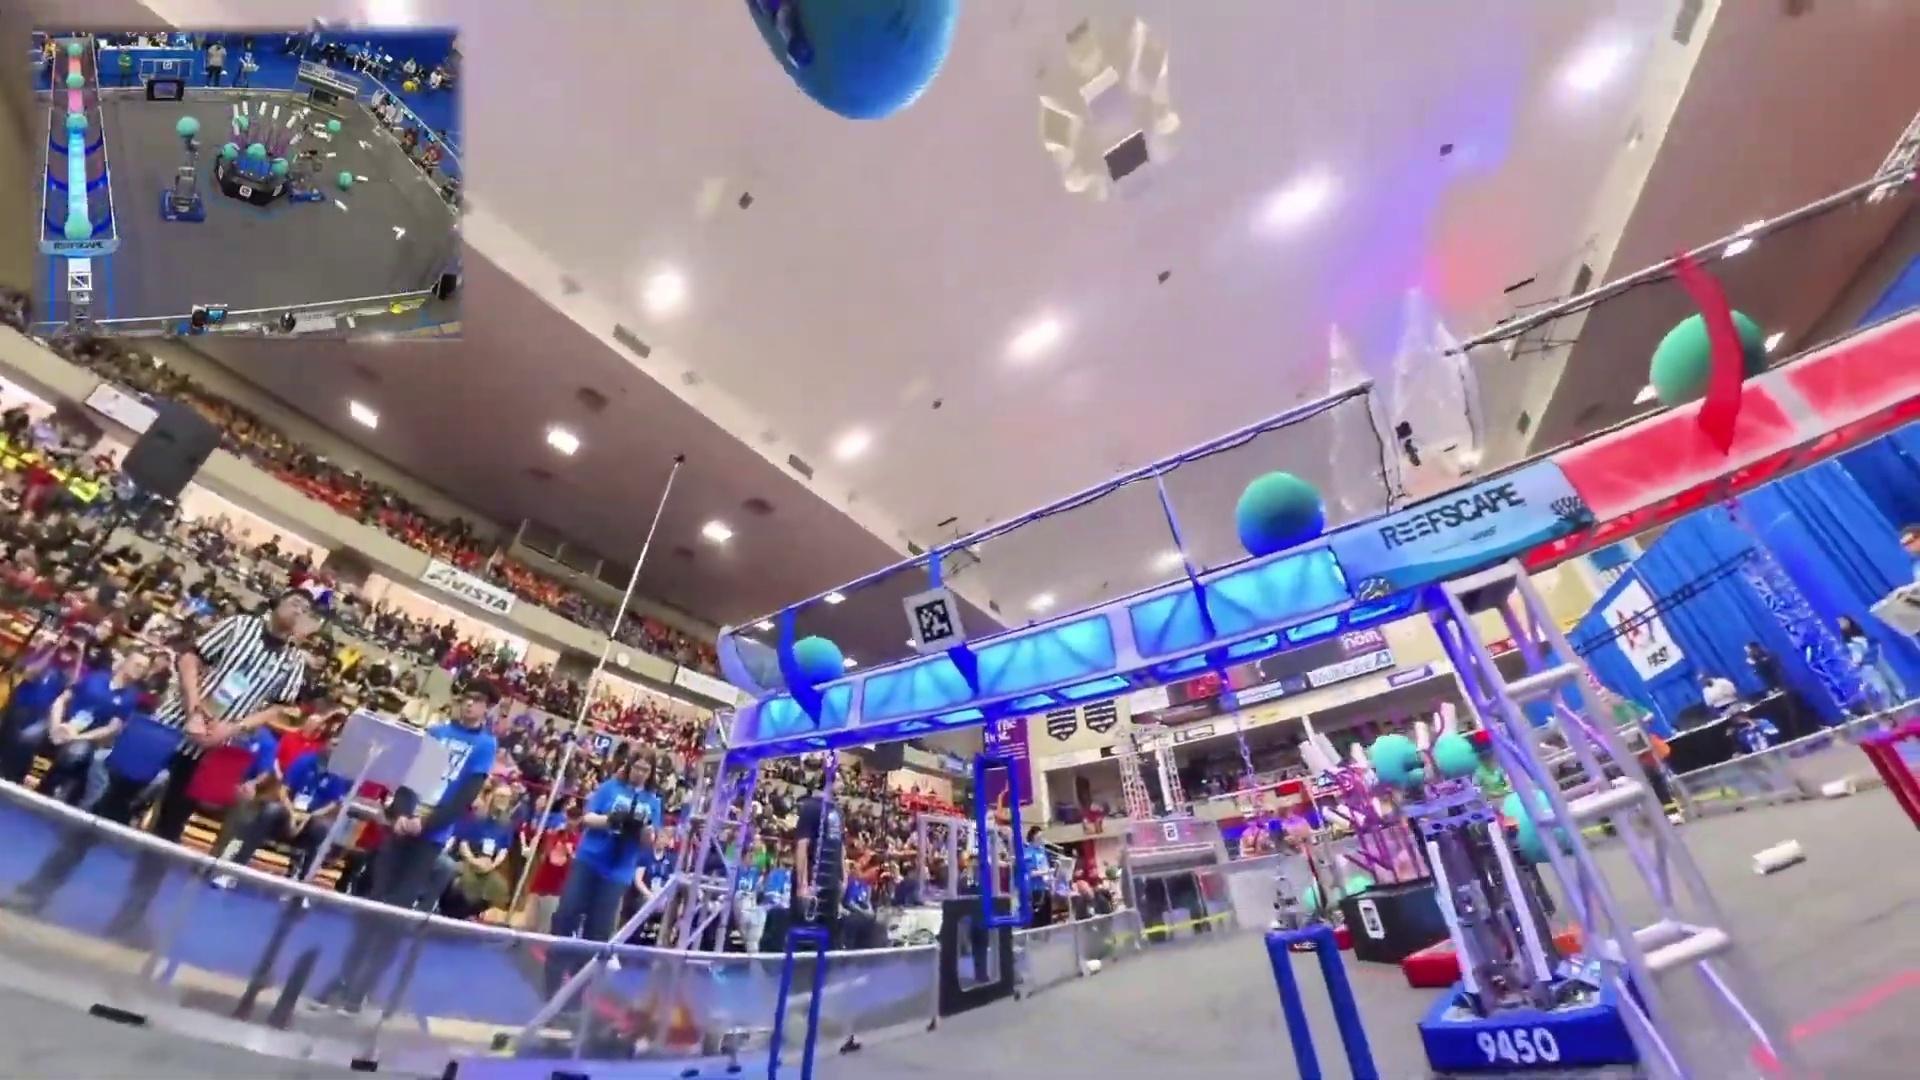robot: (1416, 779, 1647, 1079), (1403, 891, 1588, 990), (1284, 831, 1357, 951), (161, 131, 207, 224), (281, 148, 324, 204)
